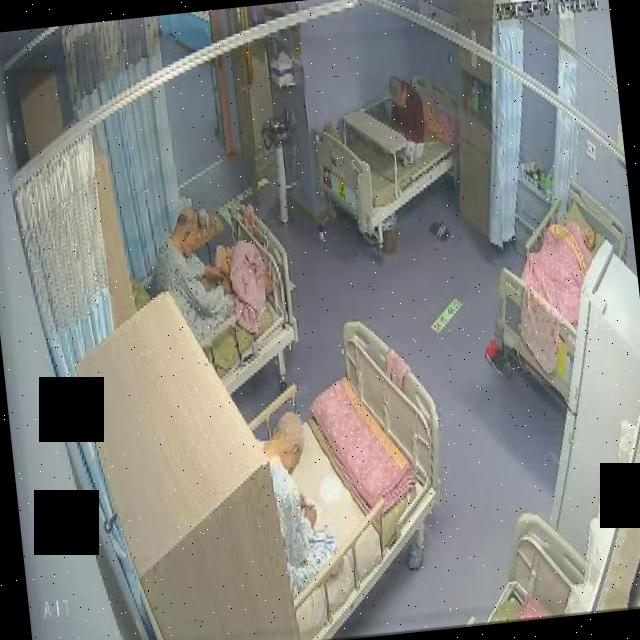bed: (233, 315, 460, 640), (480, 178, 640, 406), (150, 204, 300, 400), (311, 68, 468, 240)
patient: (254, 401, 343, 598), (149, 202, 238, 356), (378, 72, 428, 170)
sit: (148, 194, 282, 348), (254, 399, 344, 599), (379, 74, 428, 168)
